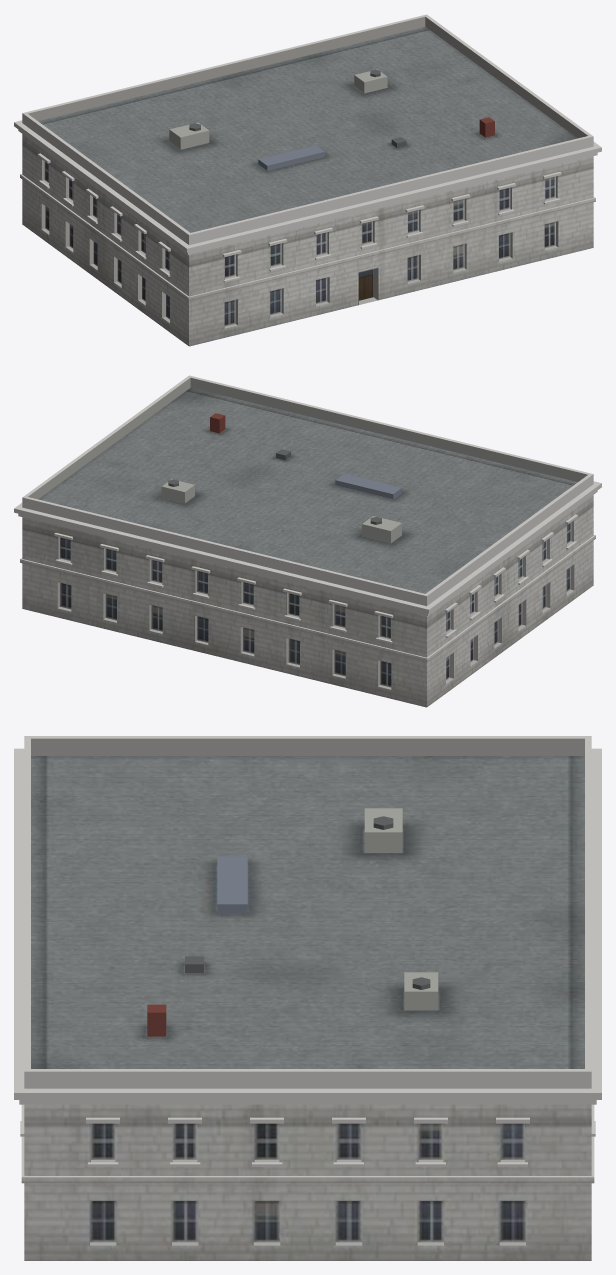
The model's file is dc_wh_wing.glb.
The picture shows the model from 3 angles, top to bottom: view 1: azimuth 30°, elevation 25°; view 2: azimuth 150°, elevation 25°; view 3: azimuth 270°, elevation 25°; orthographic projection. The views are drawn at different scales.
Parts seen in each view (by area): view 1: dc_wh_wing; view 2: dc_wh_wing; view 3: dc_wh_wing.
Part boxes in pixels (bbox=[...]): dc_wh_wing: bbox=[14, 14, 601, 346]; dc_wh_wing: bbox=[14, 375, 601, 707]; dc_wh_wing: bbox=[14, 736, 601, 1260].
Bounding box in the file's own units: 43.1 × 11.5 × 31.1.
Materials: 1 (1 with a texture image).
